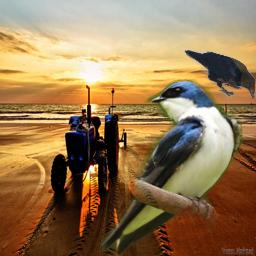Crow: (184, 50, 255, 99)
Swallow: (99, 79, 243, 256)
